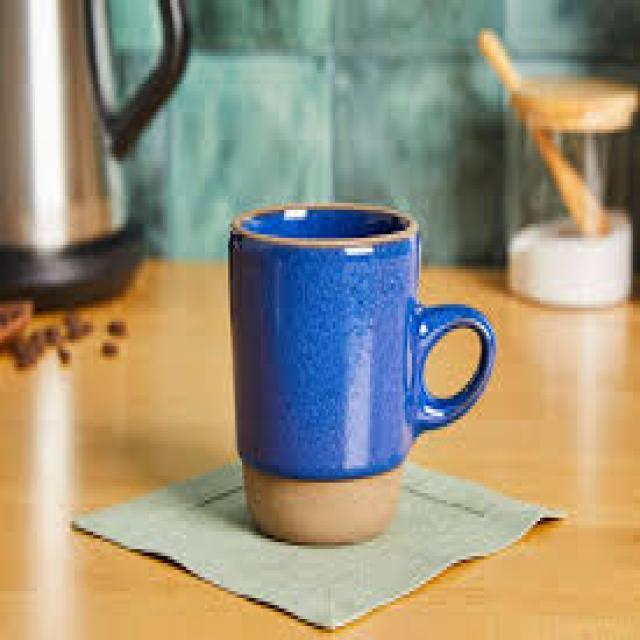taza: (226, 202, 496, 544)
